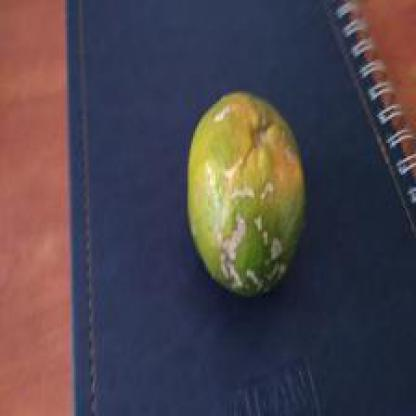orange_rotten: (163, 61, 368, 325)
